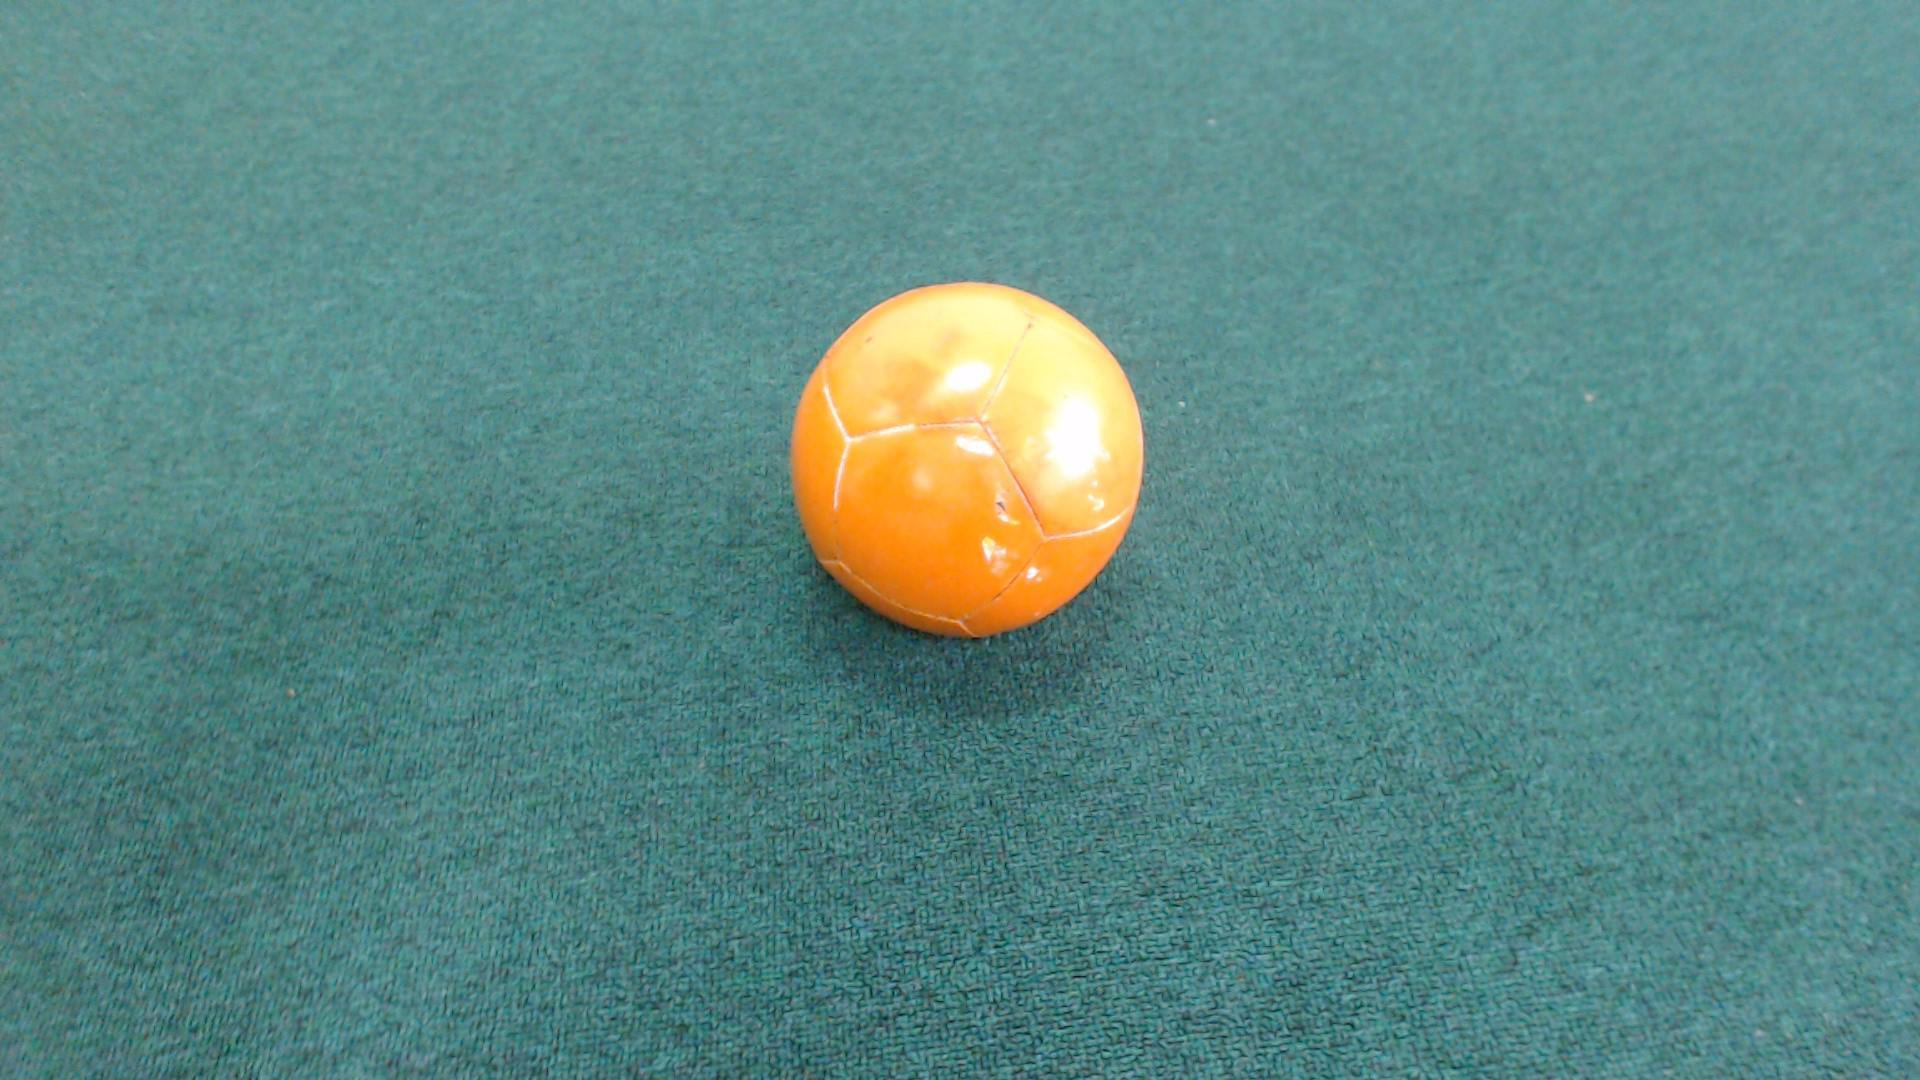bola: (766, 285, 1159, 653)
